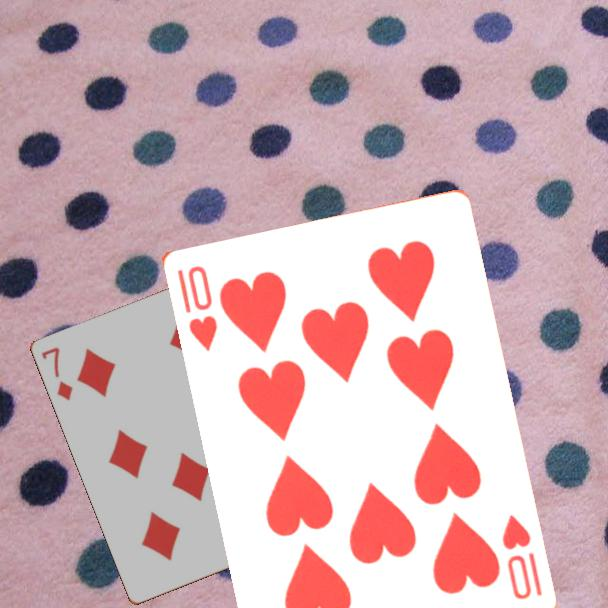d07: (38, 344, 76, 404)
h10: (173, 262, 220, 354), (498, 511, 545, 602)
